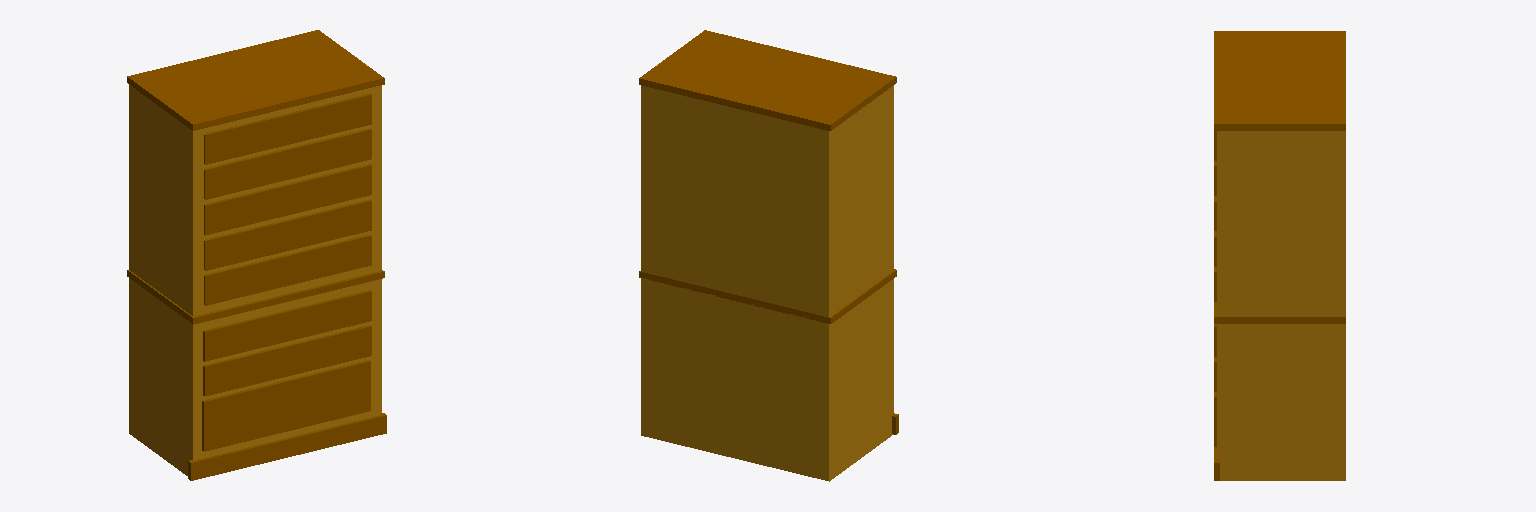
The model's file is highBoyDresser.obj.
The picture shows the model from 3 angles: view 1: azimuth 30°, elevation 25°; view 2: azimuth 150°, elevation 25°; view 3: azimuth 270°, elevation 25°; orthographic projection.
Visible parts, largest first — view 1: top_section, bottom_section, top, drawer_8, drawer_6, drawer_7, drawer_1, drawer_5, drawer_2, drawer_3, drawer_4, bottom_trim (+1 smaller); view 2: top_section, bottom_section, top, separator; view 3: top_section, bottom_section, top, separator.
Boxes of the visible parts, box(x1,y1,x2,y2) form: top_section: box(129, 85, 381, 316); bottom_section: box(129, 278, 381, 475); top: box(127, 30, 384, 130); drawer_8: box(202, 360, 370, 451); drawer_6: box(203, 290, 371, 361); drawer_7: box(203, 325, 371, 396); drawer_1: box(204, 93, 371, 164); drawer_5: box(204, 234, 371, 305); drawer_2: box(204, 128, 371, 199); drawer_3: box(204, 164, 371, 235); drawer_4: box(204, 199, 371, 270); bottom_trim: box(188, 413, 386, 480); top_section: box(641, 85, 893, 317); bottom_section: box(641, 277, 893, 481); top: box(639, 30, 896, 130); separator: box(639, 269, 896, 323); top_section: box(1217, 131, 1345, 316); bottom_section: box(1217, 324, 1345, 480); top: box(1214, 31, 1345, 130); separator: box(1214, 302, 1345, 323).
Bounding box in the file's own units: 3.17 × 5.53 × 1.86.